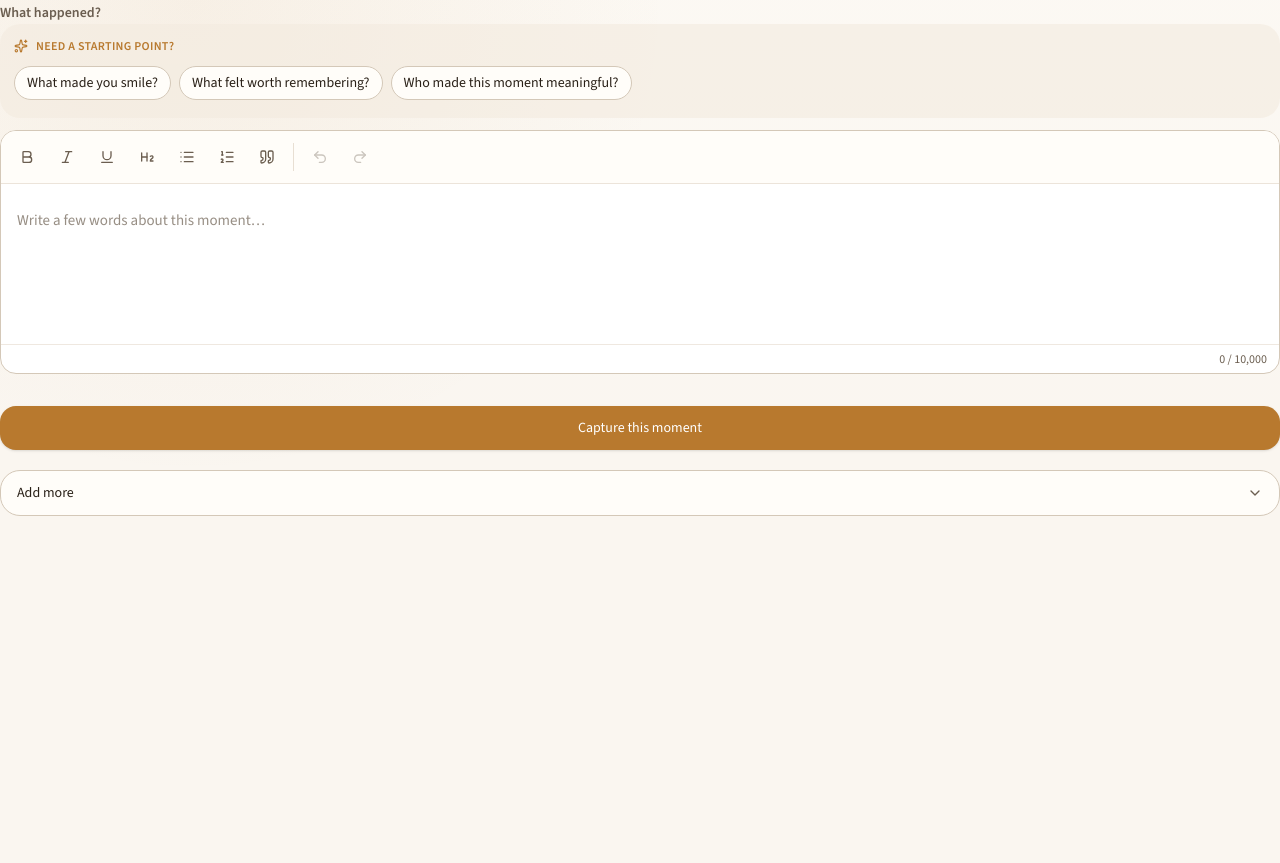
Test: CaptureForm drafts › reveals optional fields when Add more is opened
The width and height of the screenshot is (1280, 863).
Click the button "Add more" at (45, 492), box 0,470 -> 1279,516
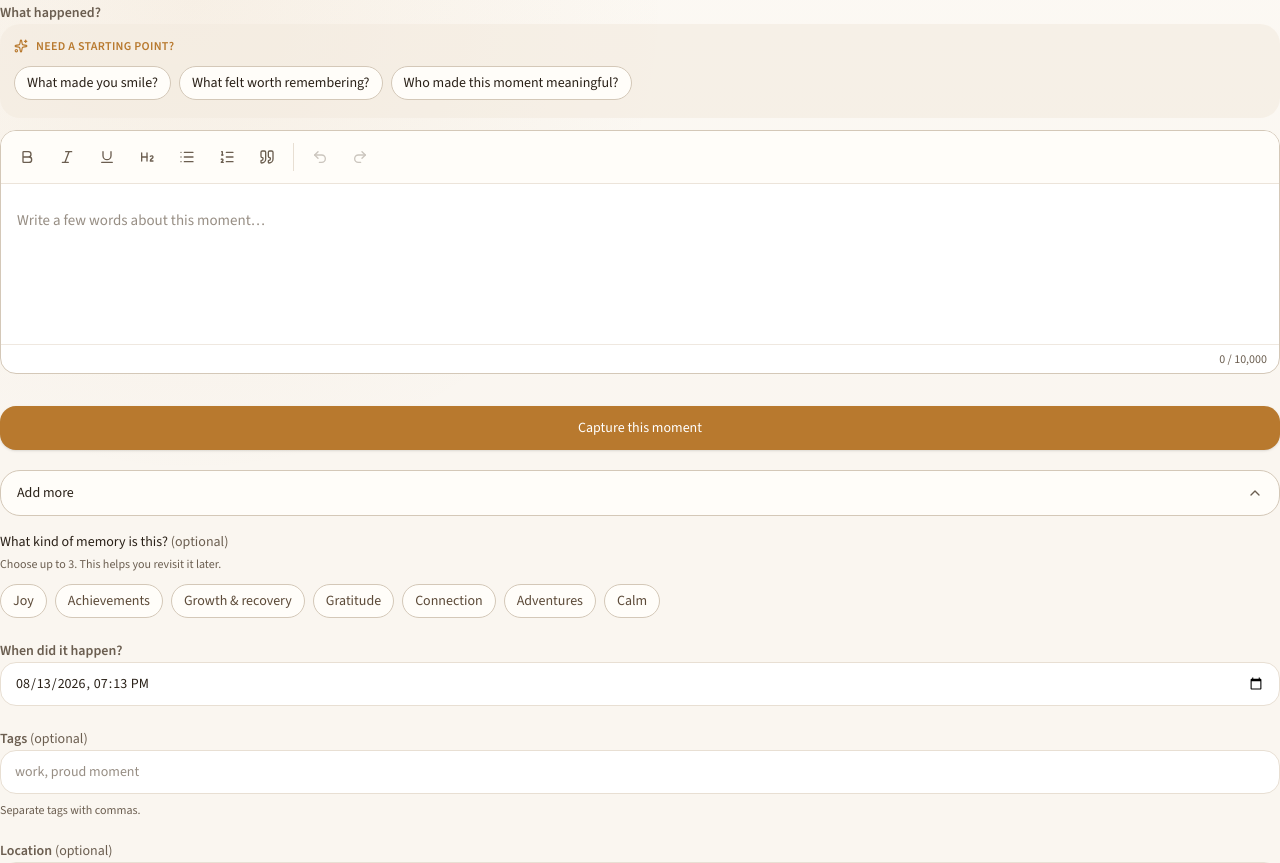
Result: the button "Add more" is expanded at 0,470 -> 1279,516
Result: the field labelled "When did it happen?" is shown at 0,662 -> 1279,706
